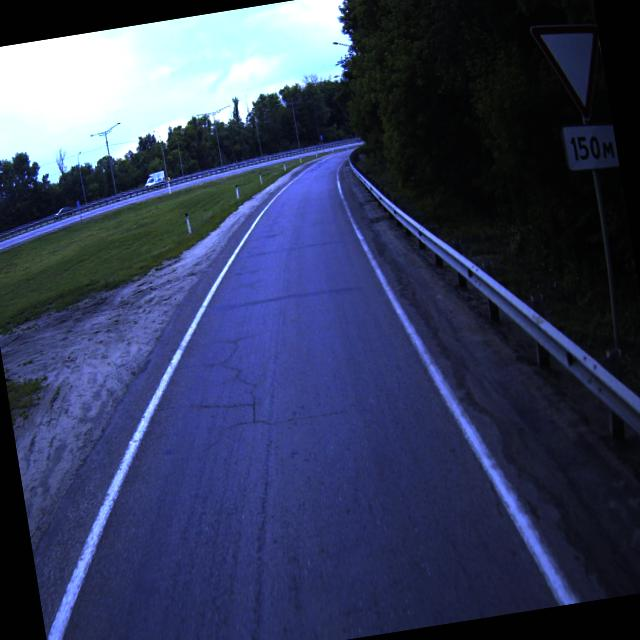road: (33, 145, 602, 640), (96, 207, 111, 212)
